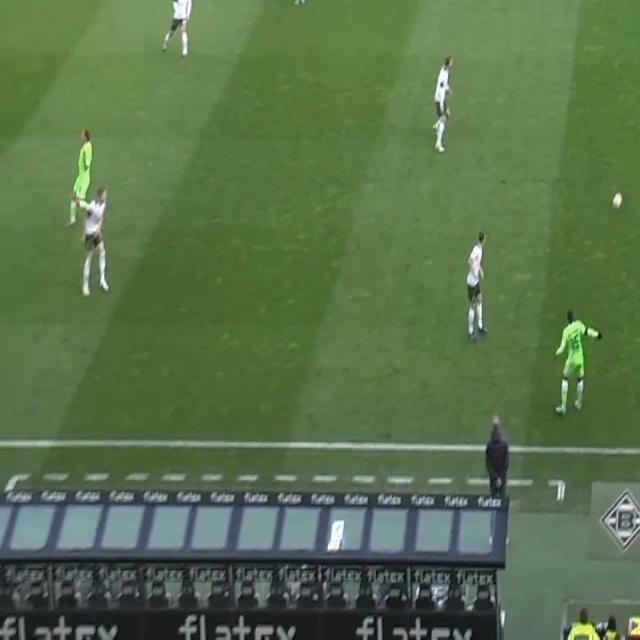ball: (612, 192, 623, 210)
